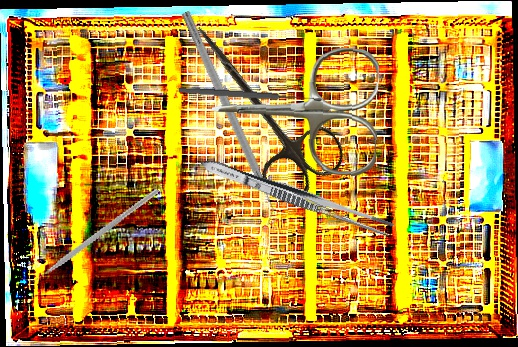Chopper: (169, 10, 283, 228), (20, 154, 160, 315)
Dressing Forceps: (196, 153, 398, 240)
Iris Scissors: (162, 3, 353, 211), (209, 43, 380, 177)
Surgical Spoon: (177, 85, 323, 105)
